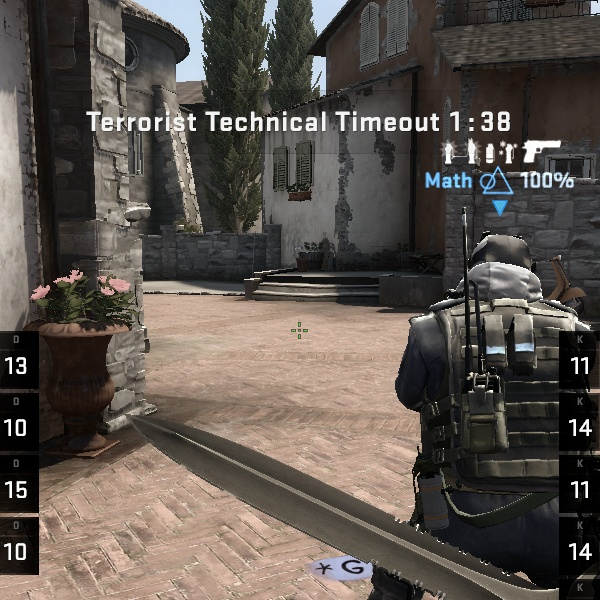ct_body: (377, 226, 591, 586)
ct_head: (457, 226, 549, 317)
